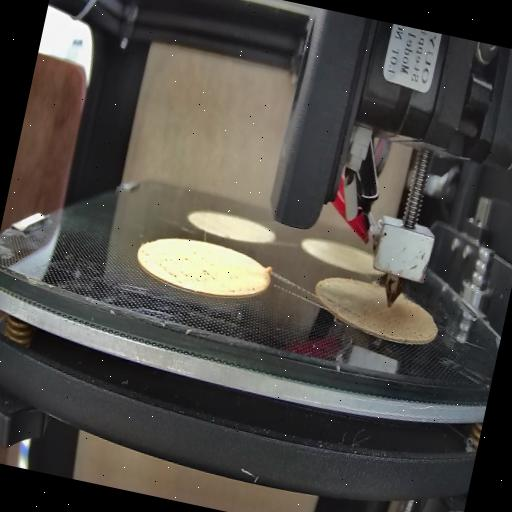under_extrusion: (140, 240, 222, 291), (367, 312, 425, 344), (318, 293, 362, 320), (228, 273, 259, 299)
